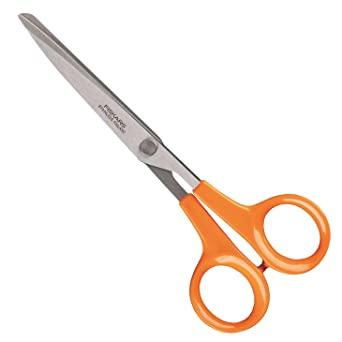Scissors: (10, 5, 336, 340)
